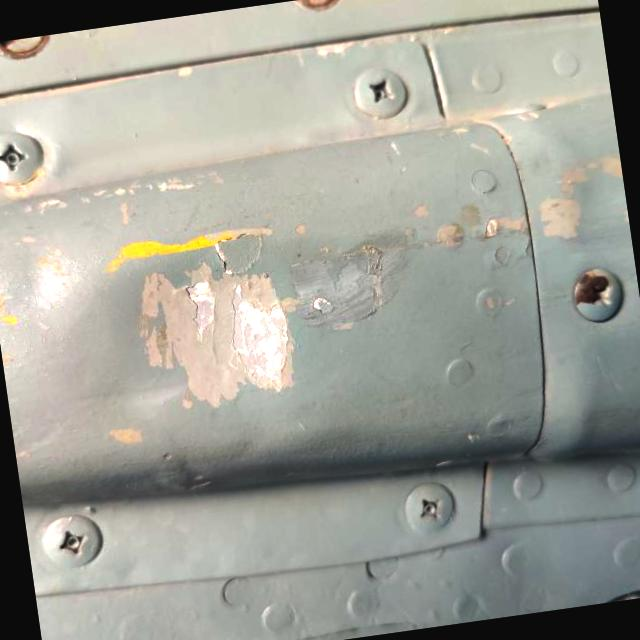paint-off: (110, 234, 320, 436)
